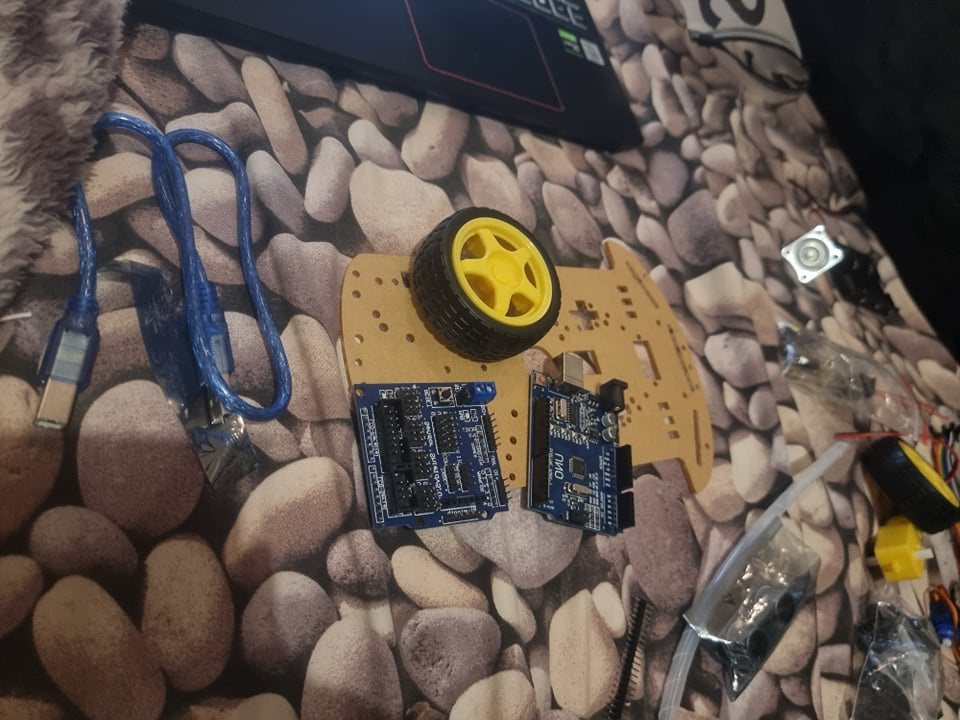5V EXPANSION: (357, 383, 510, 529)
BATTERY BOX: (835, 247, 903, 324)
UNO R3: (522, 354, 640, 530)
